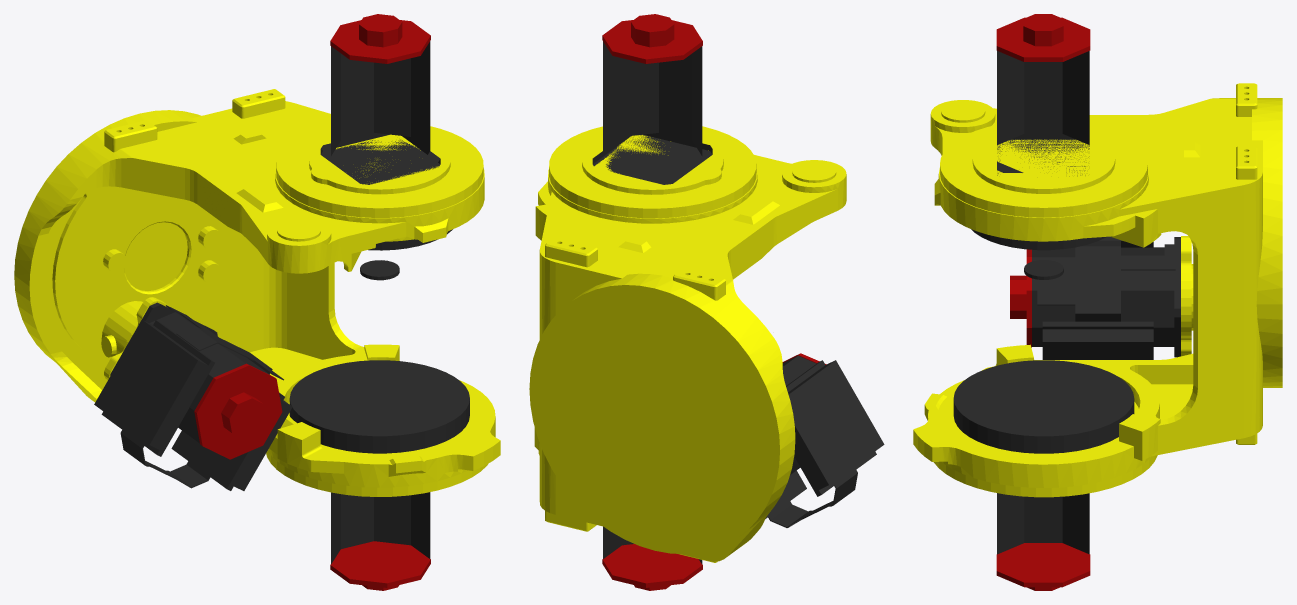
3 renders of one model, left to right at view 1: azimuth 30°, elevation 25°; view 2: azimuth 150°, elevation 25°; view 3: azimuth 270°, elevation 25°, orthographic.
Parts seen in each view (by area): view 1: node; view 2: node; view 3: node.
Part boxes in pixels (<box>): node: <box>14,14,500,590</box>; node: <box>529,14,884,590</box>; node: <box>913,14,1282,590</box>.
Bounding box in the file's own units: 744 × 1146 × 686.
